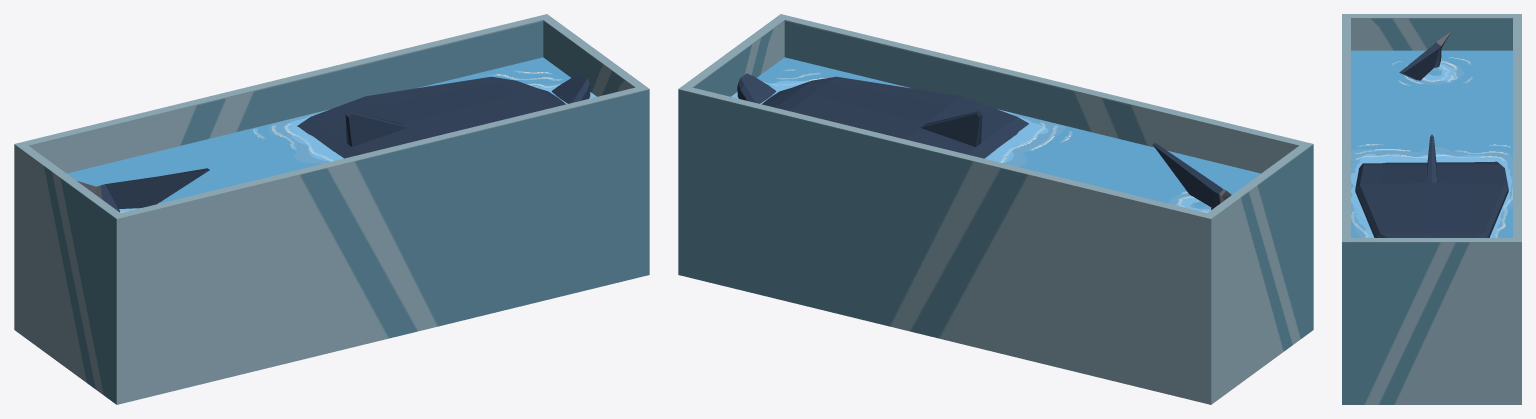
The model's file is shark2.fbx.
The picture shows the model from 3 angles, left to right: view 1: azimuth 30°, elevation 25°; view 2: azimuth 150°, elevation 25°; view 3: azimuth 270°, elevation 25°; orthographic projection. The views are drawn at different scales.
Parts seen in each view (by area): view 1: Aquarium, Shark, Water; view 2: Aquarium, Shark, Water; view 3: Aquarium, Water, Shark.
Part boxes in pixels (bbox=[...]): Aquarium: bbox=[14, 14, 649, 404]; Shark: bbox=[77, 73, 590, 212]; Water: bbox=[67, 57, 596, 212]; Aquarium: bbox=[678, 14, 1313, 404]; Shark: bbox=[737, 73, 1231, 209]; Water: bbox=[731, 57, 1260, 212]; Aquarium: bbox=[1342, 14, 1521, 404]; Water: bbox=[1351, 50, 1512, 237]; Shark: bbox=[1355, 31, 1508, 237].
Size of the model in its own units: 300 by 101 by 100.
Materials: 3 (3 with a texture image).
